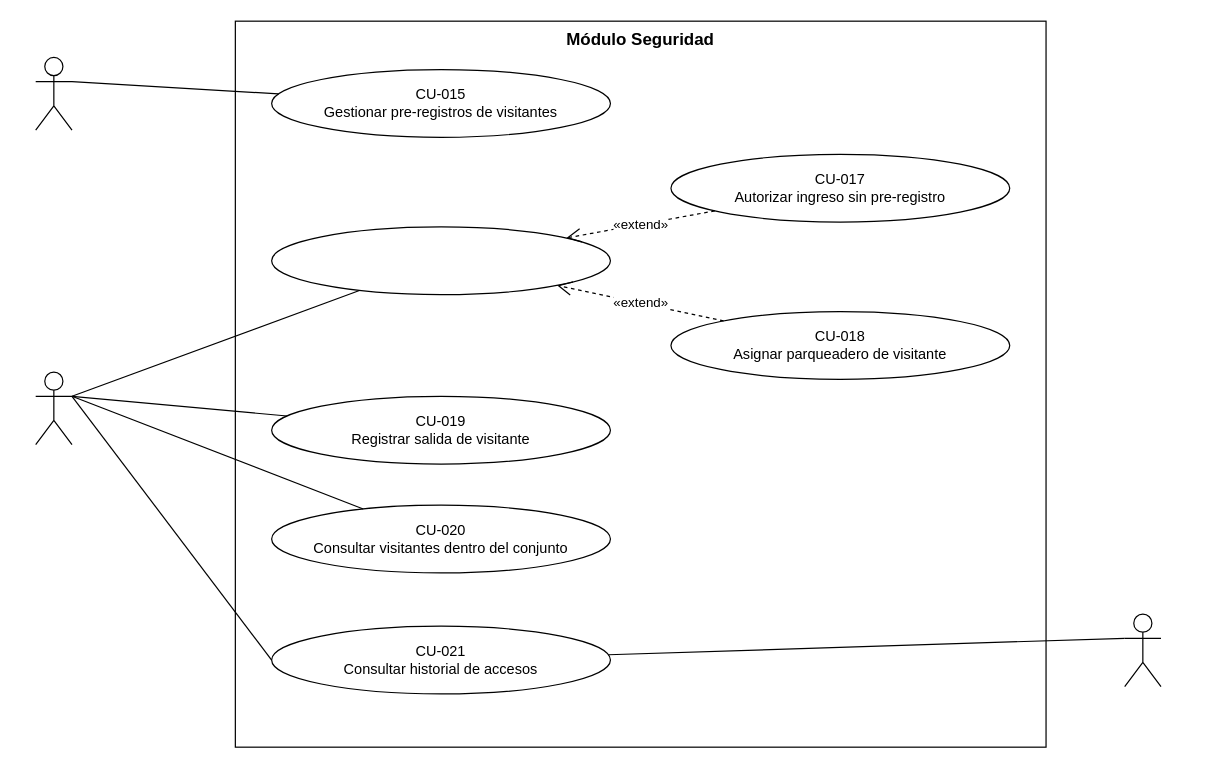
Some shapes in this 1208 by 768 pixel diagram are drawn without their labels. The centre of each missing label's shape, as x and y in pixels:
Administrador: the point at 1142,650
CU-016 Autorizar ingreso de visitante: the point at 440,260
Residente: the point at 53,93
Vigilante: the point at 53,408
